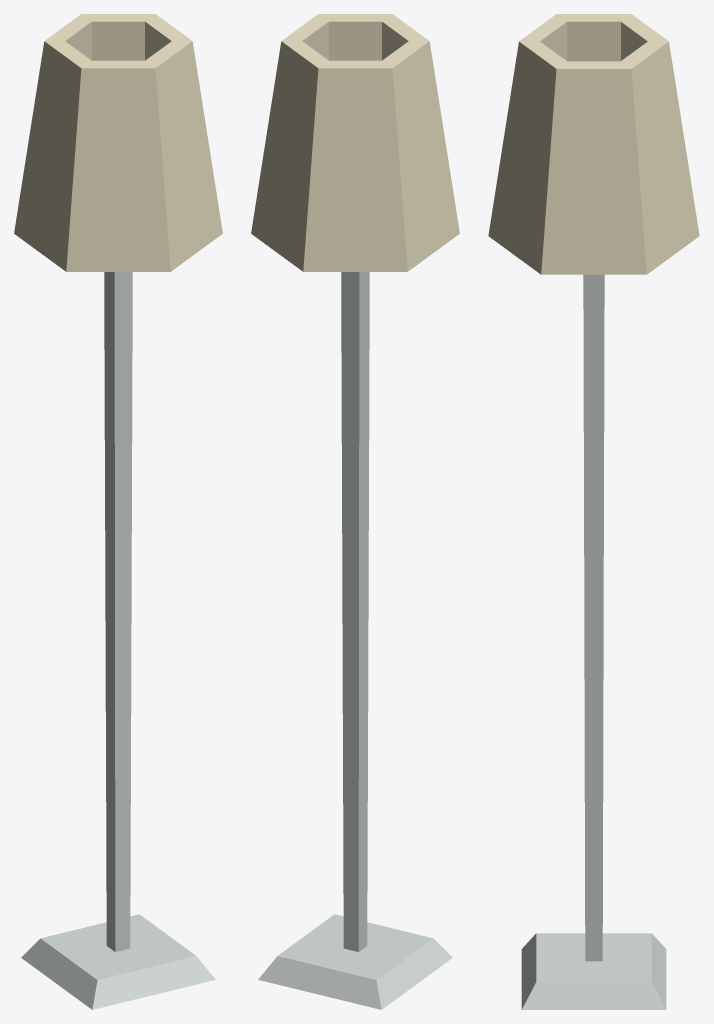
File: floor_lamp.glb
3 views of the same model, side by side, from view 1: azimuth 30°, elevation 25°; view 2: azimuth 150°, elevation 25°; view 3: azimuth 270°, elevation 25° (orthographic).
Parts seen in each view (by area): view 1: lampRoundFloor(Clone); view 2: lampRoundFloor(Clone); view 3: lampRoundFloor(Clone).
Part boxes in pixels (x1=…): lampRoundFloor(Clone): x1=14, y1=14, x2=222, y2=1009; lampRoundFloor(Clone): x1=251, y1=14, x2=459, y2=1009; lampRoundFloor(Clone): x1=488, y1=14, x2=699, y2=1009.
Bounding box in the file's own units: 0.3193 × 1.81 × 0.3687.
